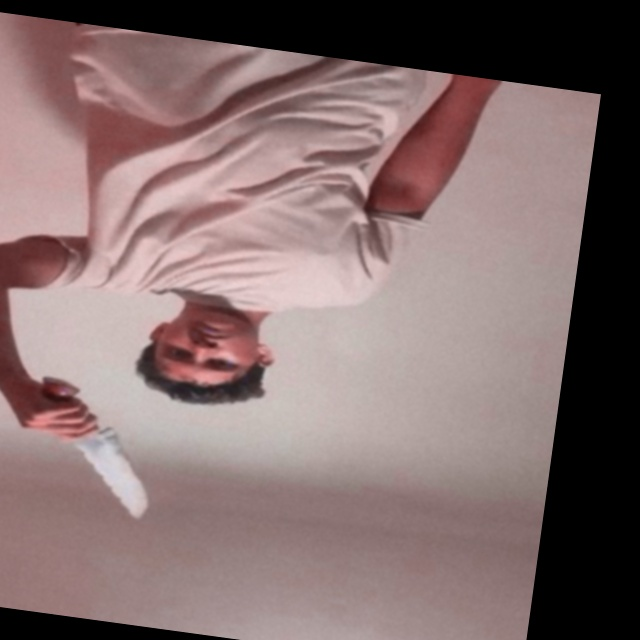Sharp-Object: (64, 431, 159, 520)
